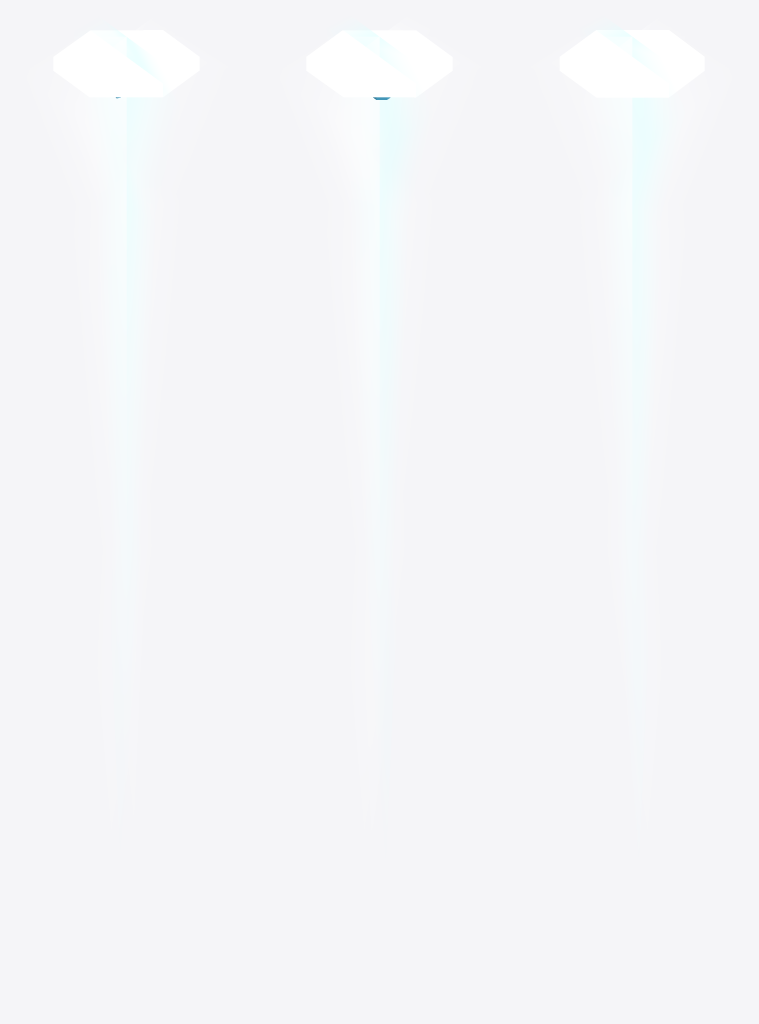
The model's file is pin.glb.
The picture shows the model from 3 angles, left to right: view 1: azimuth 30°, elevation 25°; view 2: azimuth 150°, elevation 25°; view 3: azimuth 270°, elevation 25°; orthographic projection.
Visible parts, largest first — view 1: Plane.002, Plane, Plane.001, Curve.001; view 2: Plane, Plane.001, Plane.002, Curve.001; view 3: Plane.001, Plane, Curve.001, Plane.002.
Boxes of the visible parts, x1,y1,x2,y2 form: Plane.002: [48, 36, 206, 510]; Plane: [86, 23, 153, 558]; Plane.001: [103, 23, 166, 558]; Curve.001: [53, 30, 199, 97]; Plane: [301, 36, 459, 503]; Plane.001: [340, 22, 414, 568]; Plane.002: [344, 22, 418, 568]; Curve.001: [306, 30, 452, 97]; Plane.001: [552, 36, 710, 503]; Plane: [597, 22, 671, 568]; Curve.001: [559, 30, 704, 97]; Plane.002: [592, 23, 654, 558].
Size of the model in its own units: 3.14 by 17.34 by 3.63.
3 materials, 1 textured.
